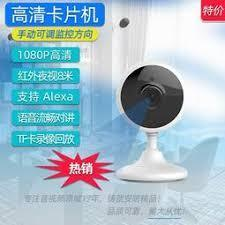maru: (118, 62, 186, 130)
